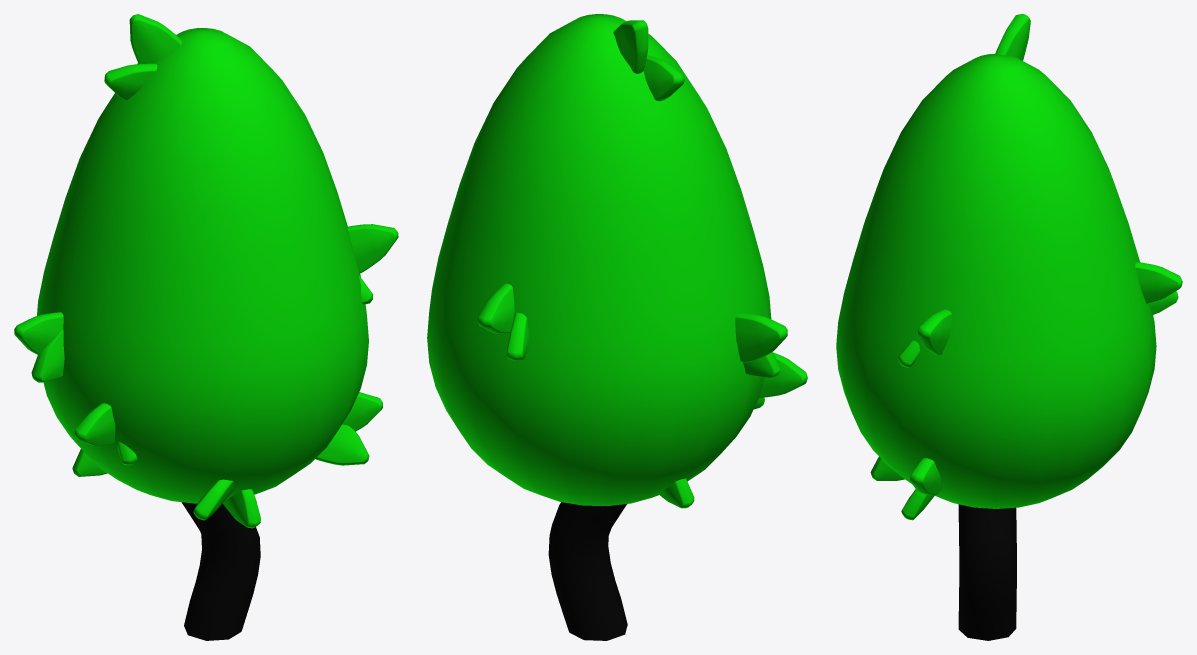
The model's file is SM_Bush1.fbx.
3 renders of one model, left to right at view 1: azimuth 30°, elevation 25°; view 2: azimuth 150°, elevation 25°; view 3: azimuth 270°, elevation 25°, orthographic. The views are drawn at different scales.
Parts seen in each view (by area): view 1: SM_Bush1; view 2: SM_Bush1; view 3: SM_Bush1.
Part boxes in pixels (x1,y1,x2,y2): SM_Bush1: [14, 14, 398, 640]; SM_Bush1: [427, 14, 807, 640]; SM_Bush1: [836, 14, 1182, 640].
Size of the model in its own units: 91.71 by 157 by 84.06.
